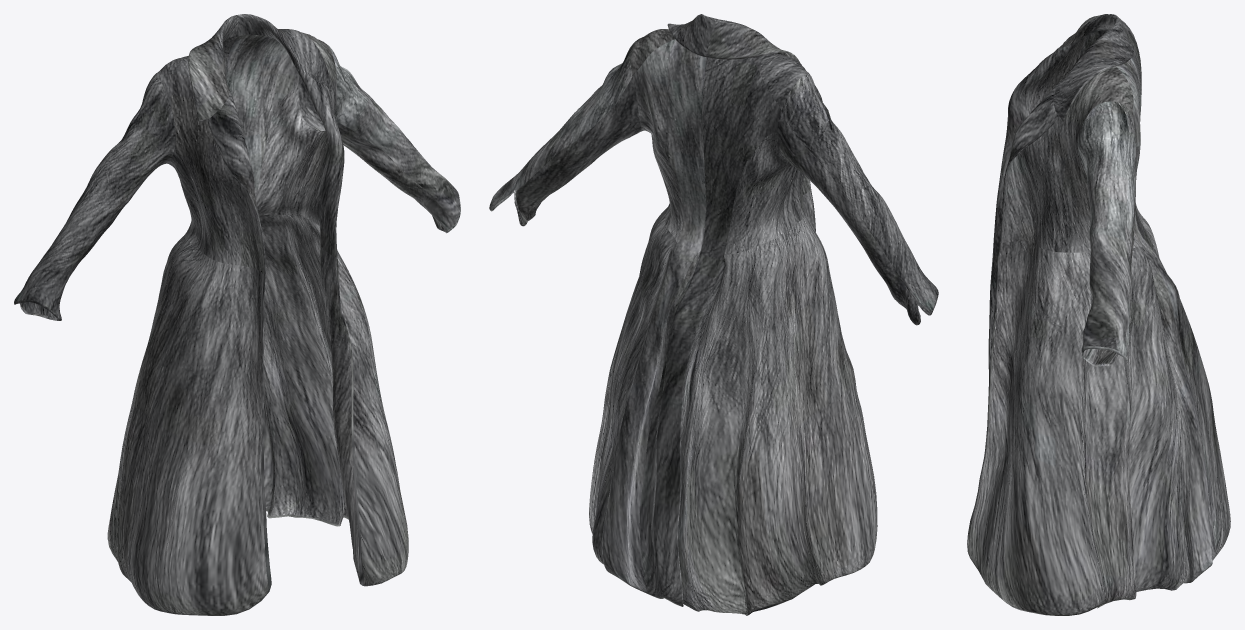
Rendered from female-coat.glb.
3 renders of one model, left to right at view 1: azimuth 30°, elevation 25°; view 2: azimuth 150°, elevation 25°; view 3: azimuth 270°, elevation 25°, orthographic. The views are drawn at different scales.
Visible parts, largest first — view 1: frockcoat_low.009; view 2: frockcoat_low.009; view 3: frockcoat_low.009.
Part boxes in pixels (bbox=[...]): frockcoat_low.009: bbox=[14, 14, 460, 615]; frockcoat_low.009: bbox=[489, 14, 938, 615]; frockcoat_low.009: bbox=[967, 14, 1230, 615].
Size of the model in its own units: 1.76 by 2.08 by 0.9308.
1 material, 1 textured.
